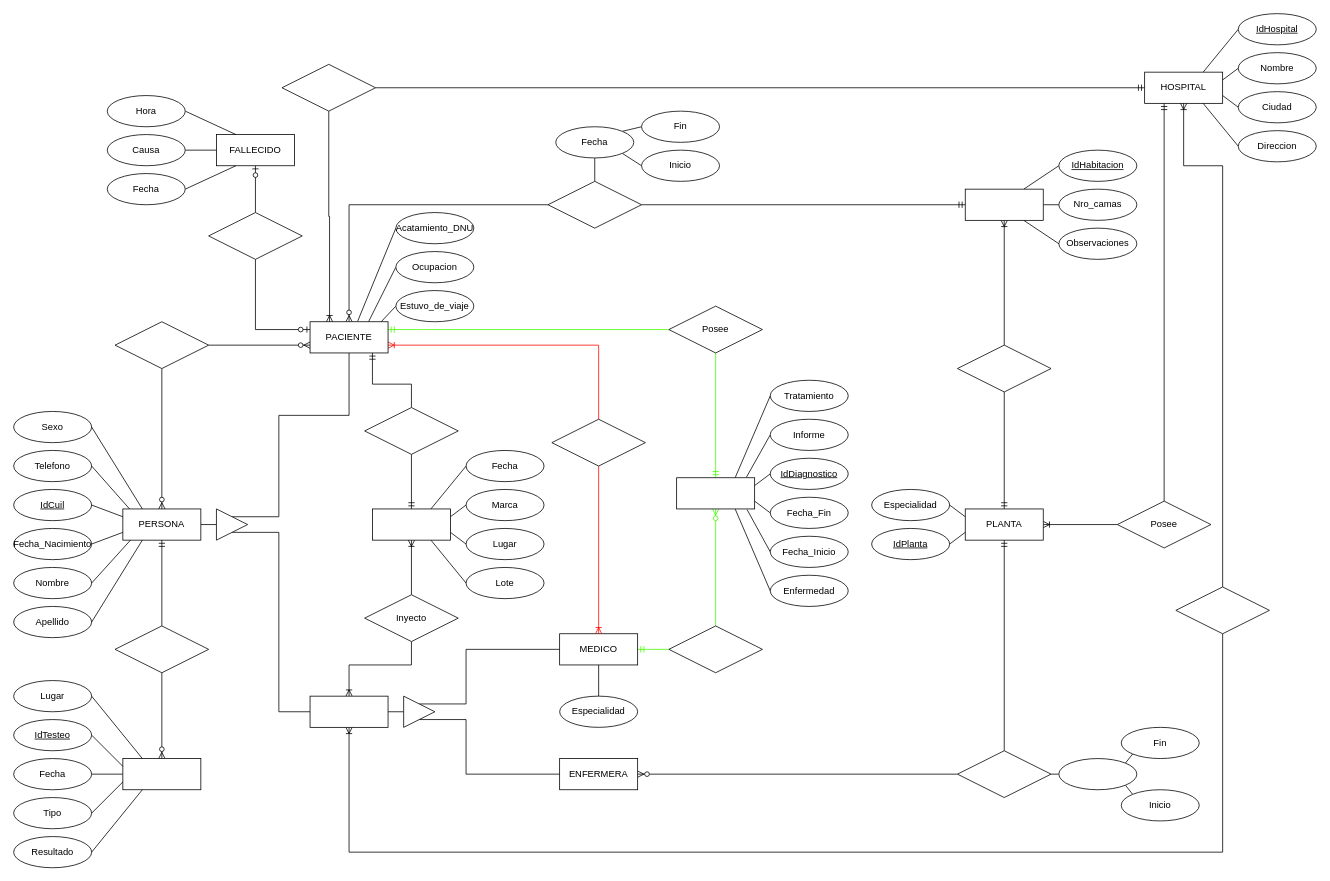
Some shapes in this 1330 by 881 pixel diagram are drawn without their labels. Each missing label, with the box of its shape:
Asignada: (957, 750, 1051, 798)
Asignado: (547, 181, 642, 228)
Atiende: (551, 418, 645, 466)
Añade: (668, 625, 762, 673)
CALENDARIO DE VACUNACION: (372, 508, 450, 540)
Esta: (208, 212, 302, 259)
HABITACION: (964, 188, 1043, 220)
Hay: (281, 64, 376, 111)
HISTORIAL CLINICO: (676, 477, 755, 509)
Pertenece: (957, 344, 1051, 392)
PROFESIONAL: (309, 695, 388, 727)
Responsable: (114, 321, 209, 369)
Se_Realiza: (114, 625, 209, 673)
TESTEO: (122, 758, 201, 790)
Tiene: (364, 407, 458, 454)
Trabaja: (1175, 586, 1269, 634)
Turno: (1058, 758, 1137, 790)
